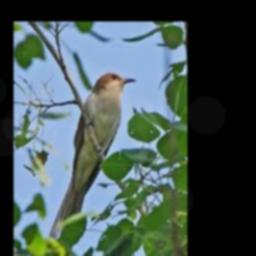Cuckoo: (48, 72, 136, 256)
